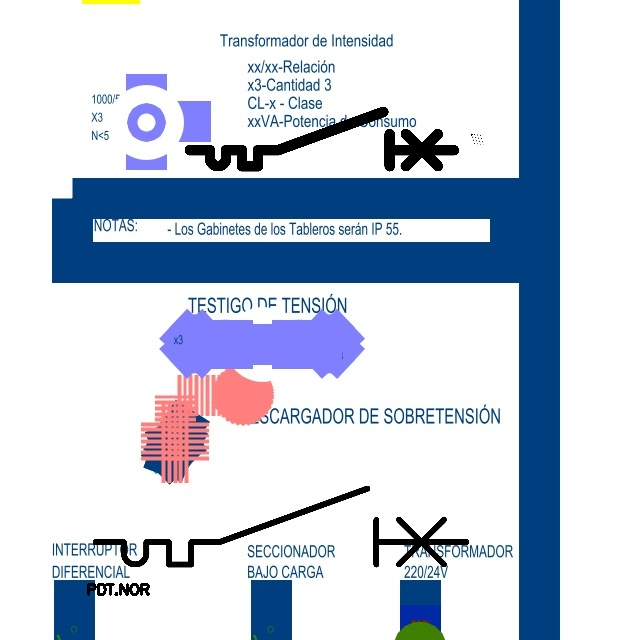interruptor_termomagnetico: (86, 479, 476, 574), (183, 105, 461, 173)
